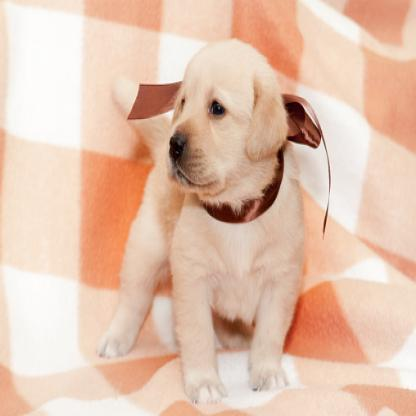Labarador Retriever: (97, 38, 303, 400)
